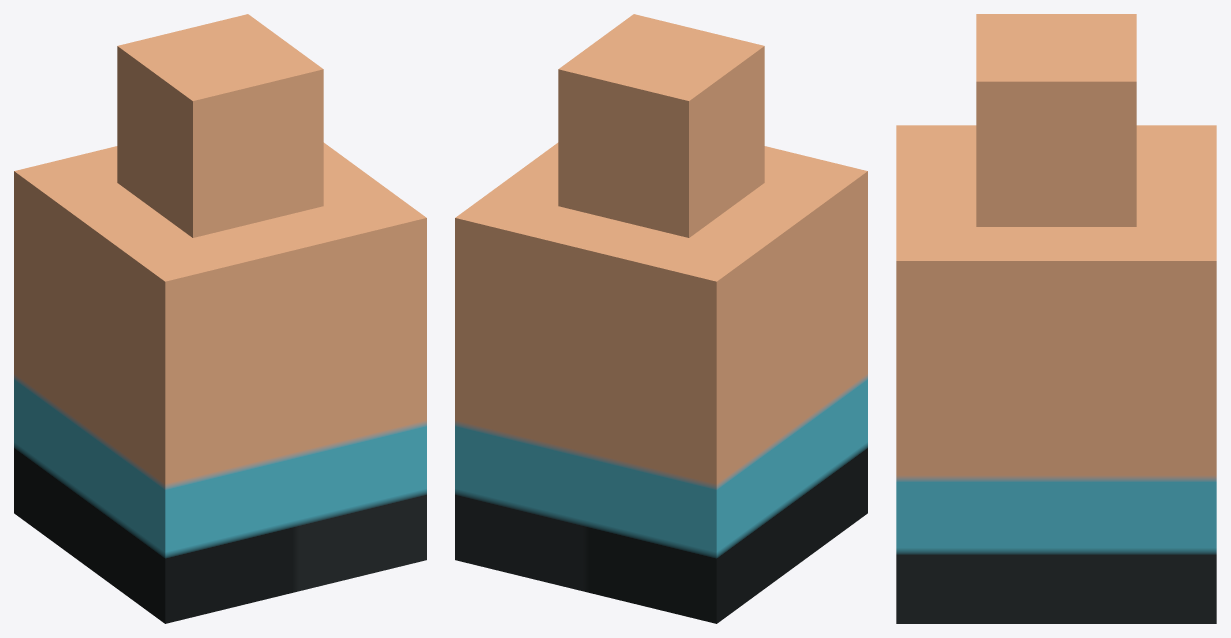
File: Hip018.fbx
3 views of the same model, side by side, from view 1: azimuth 30°, elevation 25°; view 2: azimuth 150°, elevation 25°; view 3: azimuth 270°, elevation 25° (orthographic). The views are drawn at different scales.
Parts seen in each view (by area): view 1: Hip018; view 2: Hip018; view 3: Hip018.
Part boxes in pixels (x1,y1,x2,y2): Hip018: (14,14,426,623); Hip018: (455,14,867,623); Hip018: (896,14,1216,623).
Size of the model in its own units: 4 by 7 by 4.
